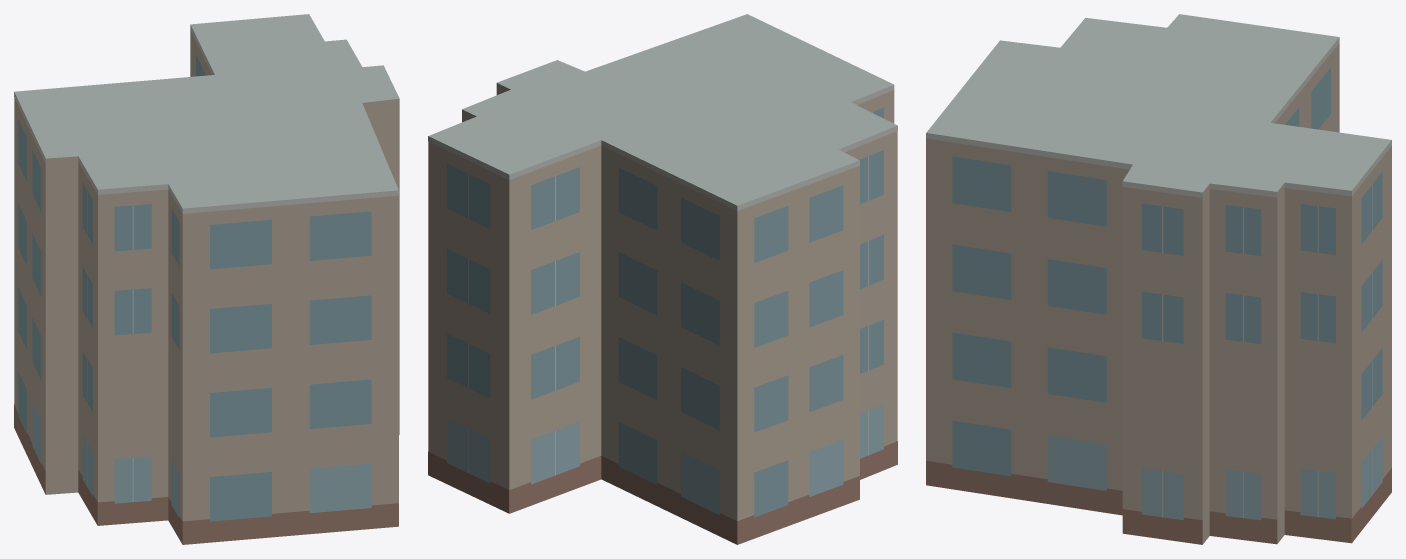
The model's file is survey-upis-32457787.glb.
3 views of the same model, side by side, from view 1: azimuth 30°, elevation 25°; view 2: azimuth 150°, elevation 25°; view 3: azimuth 270°, elevation 25° (orthographic). The views are drawn at different scales.
Visible parts, largest first — view 1: survey-upis-32457787.tmp; view 2: survey-upis-32457787.tmp; view 3: survey-upis-32457787.tmp.
Boxes of the visible parts, box(x1,y1,x2,y2) form: survey-upis-32457787.tmp: box(14, 14, 399, 544); survey-upis-32457787.tmp: box(428, 14, 897, 544); survey-upis-32457787.tmp: box(926, 14, 1391, 544).
Bounding box in the file's own units: 16.74 × 15.4 × 18.46.
